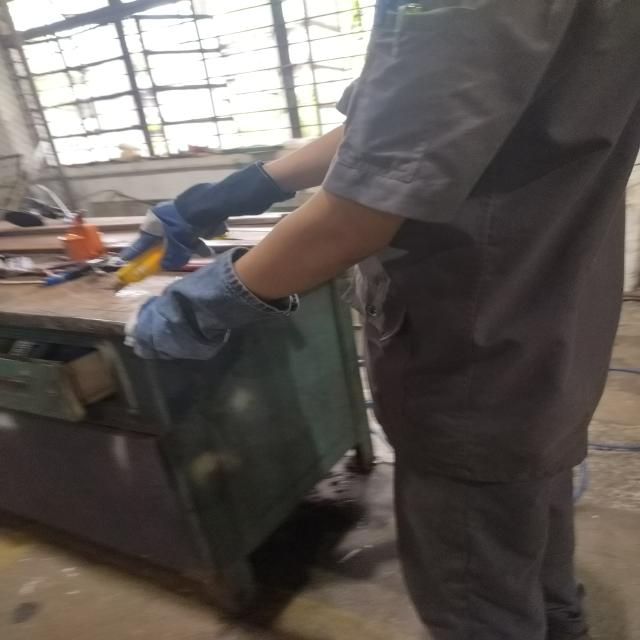Gloves-Detection: (119, 165, 276, 265), (134, 294, 260, 358)
